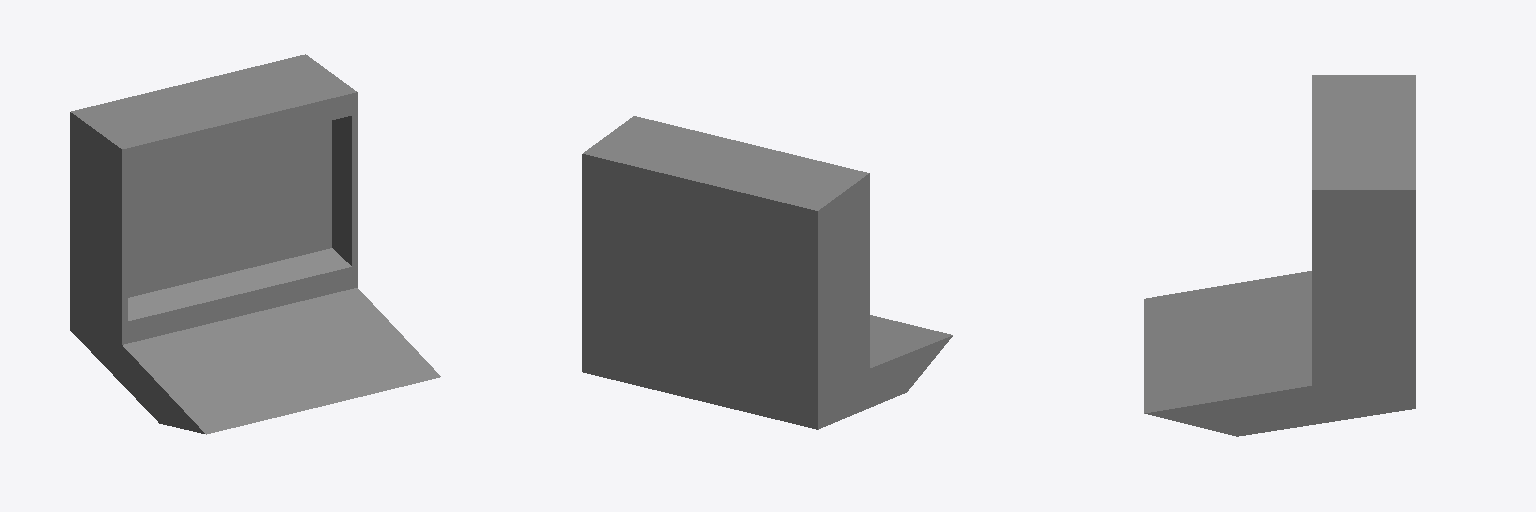
The model's file is window_basement.obj.
The picture shows the model from 3 angles: view 1: azimuth 30°, elevation 25°; view 2: azimuth 150°, elevation 25°; view 3: azimuth 270°, elevation 25°; orthographic projection.
Parts seen in each view (by area): view 1: kelderraam; view 2: kelderraam; view 3: kelderraam.
Boxes of the visible parts, x1=… form: kelderraam: x1=70, y1=54, x2=440, y2=434; kelderraam: x1=582, y1=116, x2=952, y2=429; kelderraam: x1=1144, y1=75, x2=1415, y2=436.
Size of the model in its own units: 12.8 by 12.81 by 12.79.